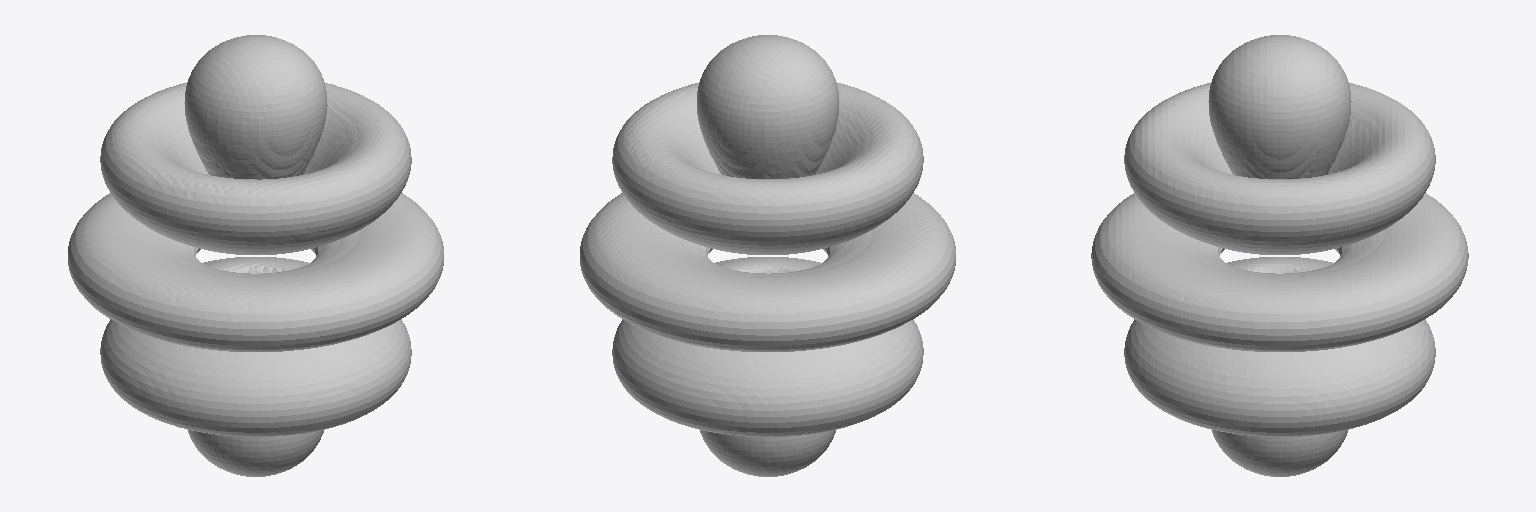
Rendered from orb_n=5_ l=4 _m=0.obj.
3 views of the same model, side by side, from view 1: azimuth 30°, elevation 25°; view 2: azimuth 150°, elevation 25°; view 3: azimuth 270°, elevation 25° (orthographic).
Parts seen in each view (by area): view 1: orb_n=5__l=4__m=0; view 2: orb_n=5__l=4__m=0; view 3: orb_n=5__l=4__m=0.
Part boxes in pixels (x1,y1,x2,y2): orb_n=5__l=4__m=0: (68, 35, 443, 476); orb_n=5__l=4__m=0: (580, 35, 955, 476); orb_n=5__l=4__m=0: (1091, 35, 1468, 476).
Bounding box in the file's own units: 84.13 × 105 × 84.13.